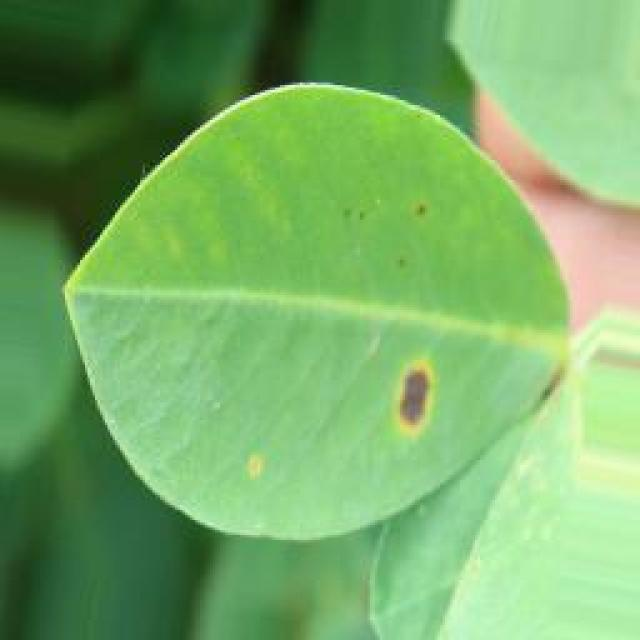Early_leaf_spot: (339, 328, 452, 453), (323, 188, 442, 290), (239, 439, 283, 508)
